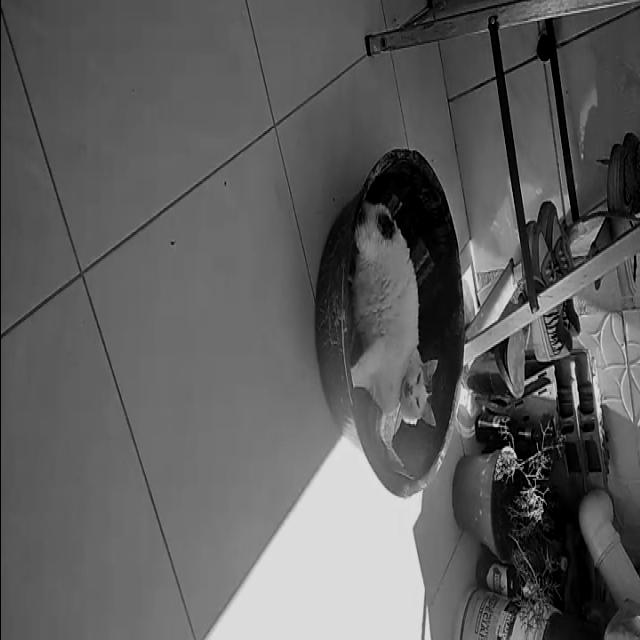Simba: (350, 242, 430, 472)
